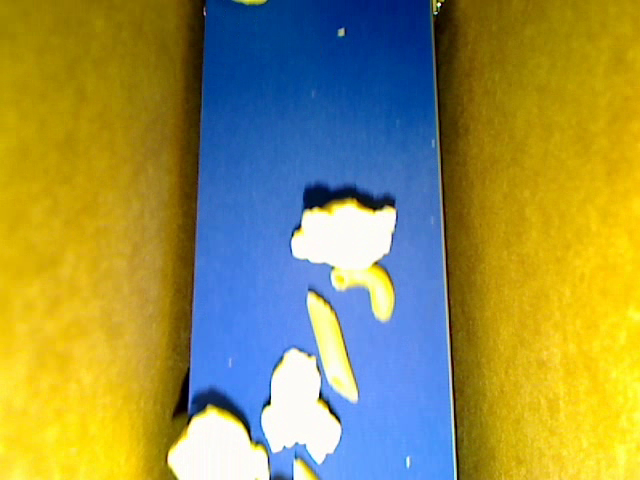elbow: (330, 263, 396, 321)
penne: (306, 290, 359, 403)
